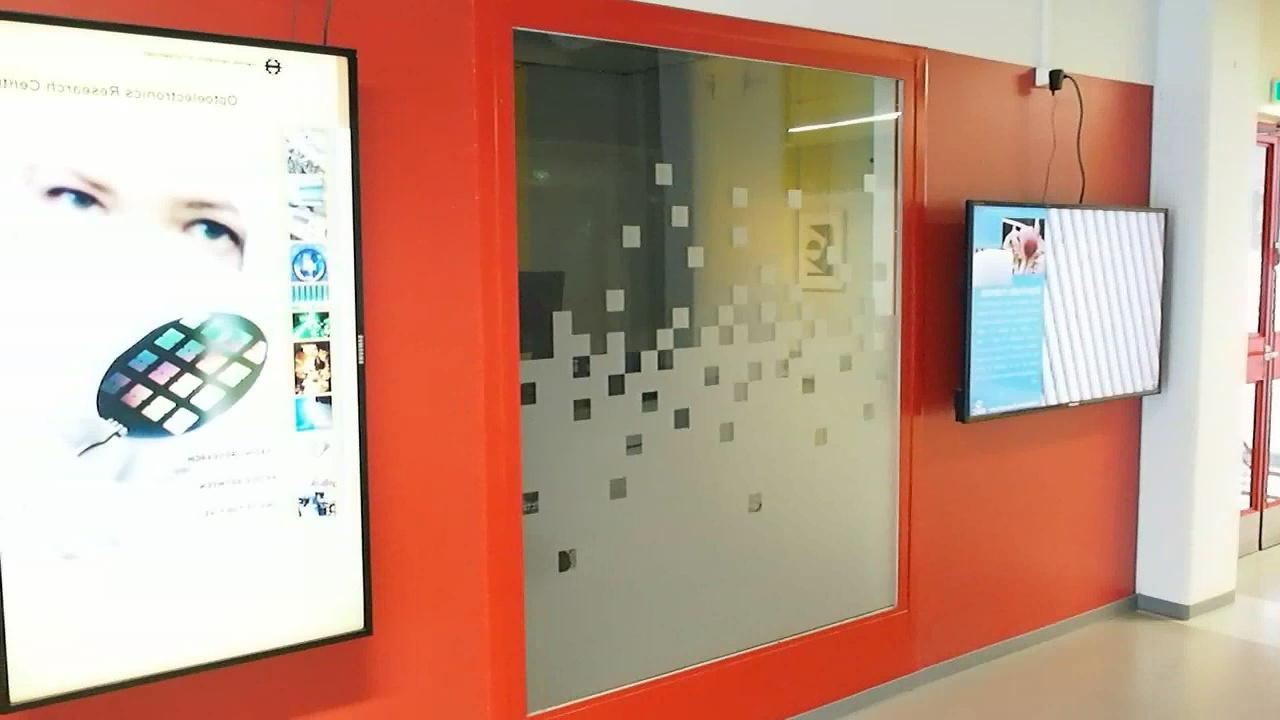screen: (11, 27, 377, 711), (958, 195, 1175, 428)
